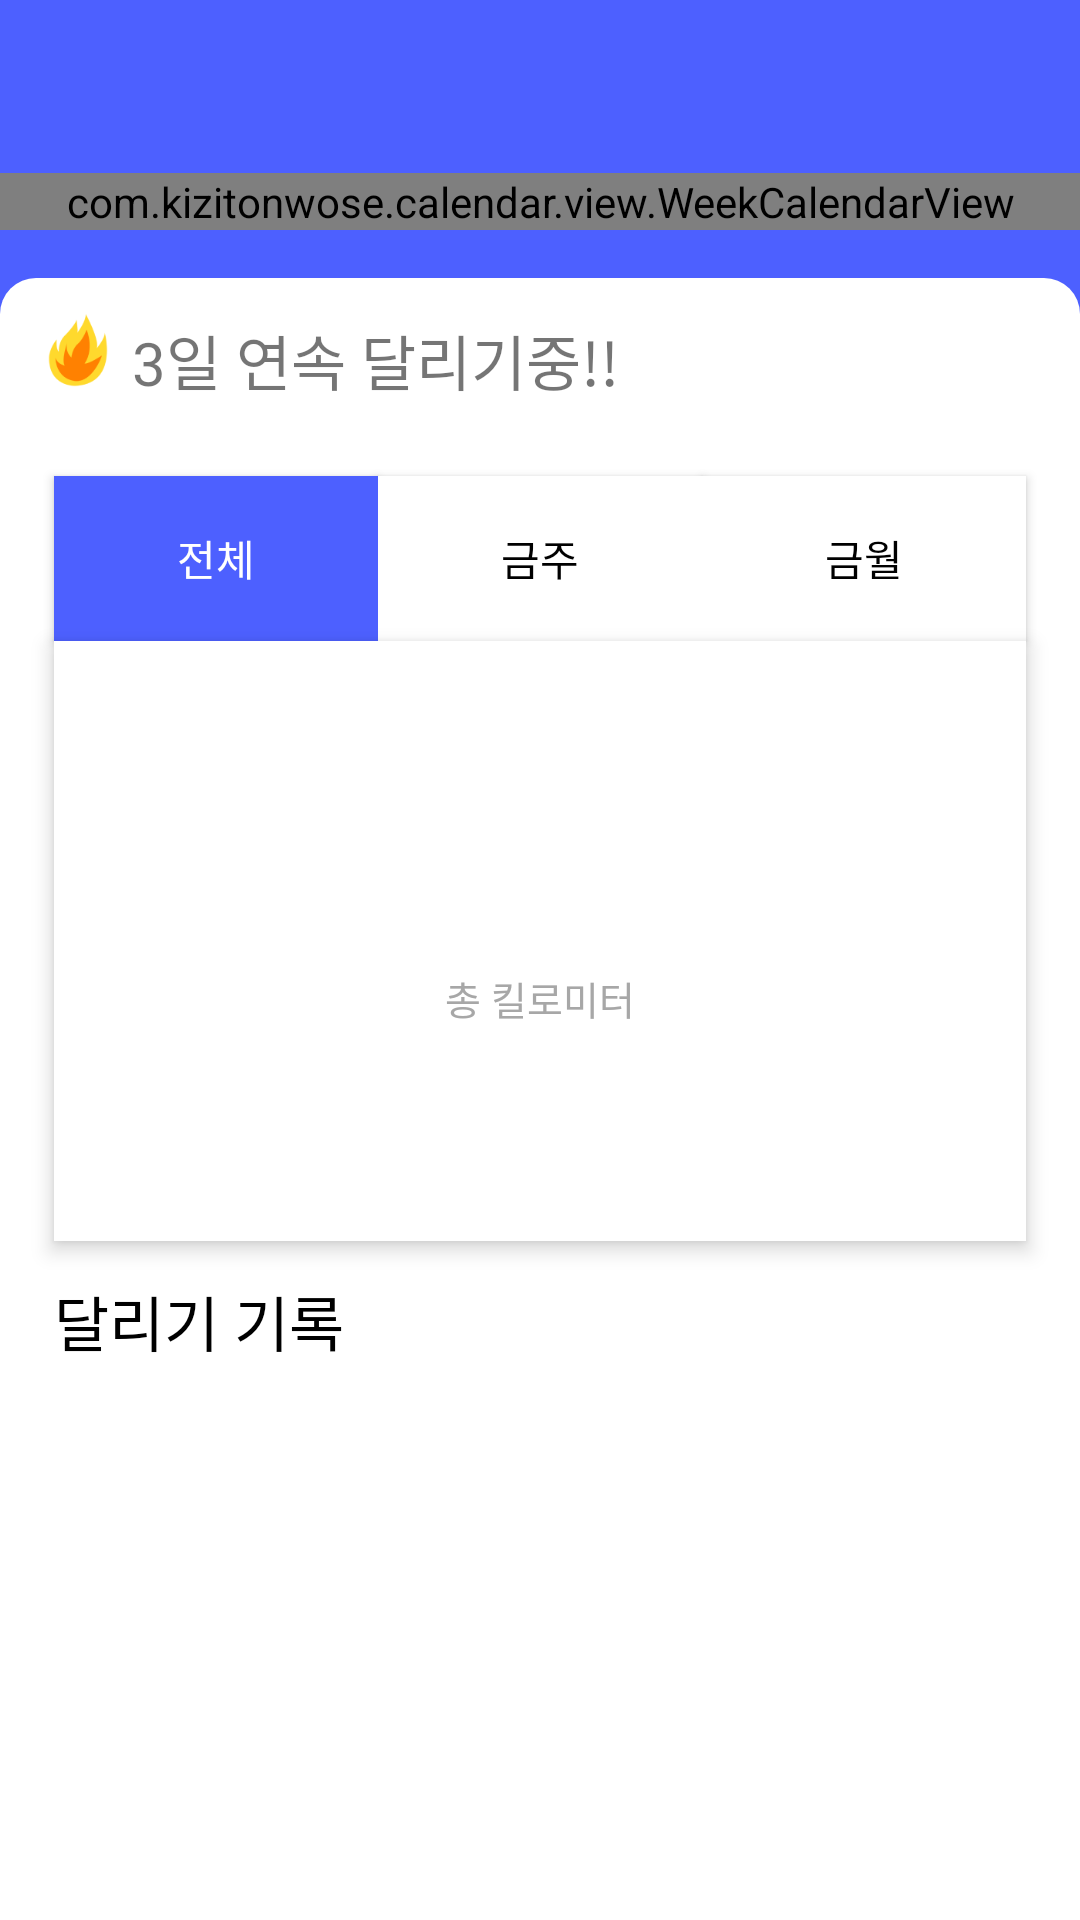

Screen size 1080*1920. Icon name, then its center in pixels as (x=x, y=y):
fire: (x=78, y=350)
